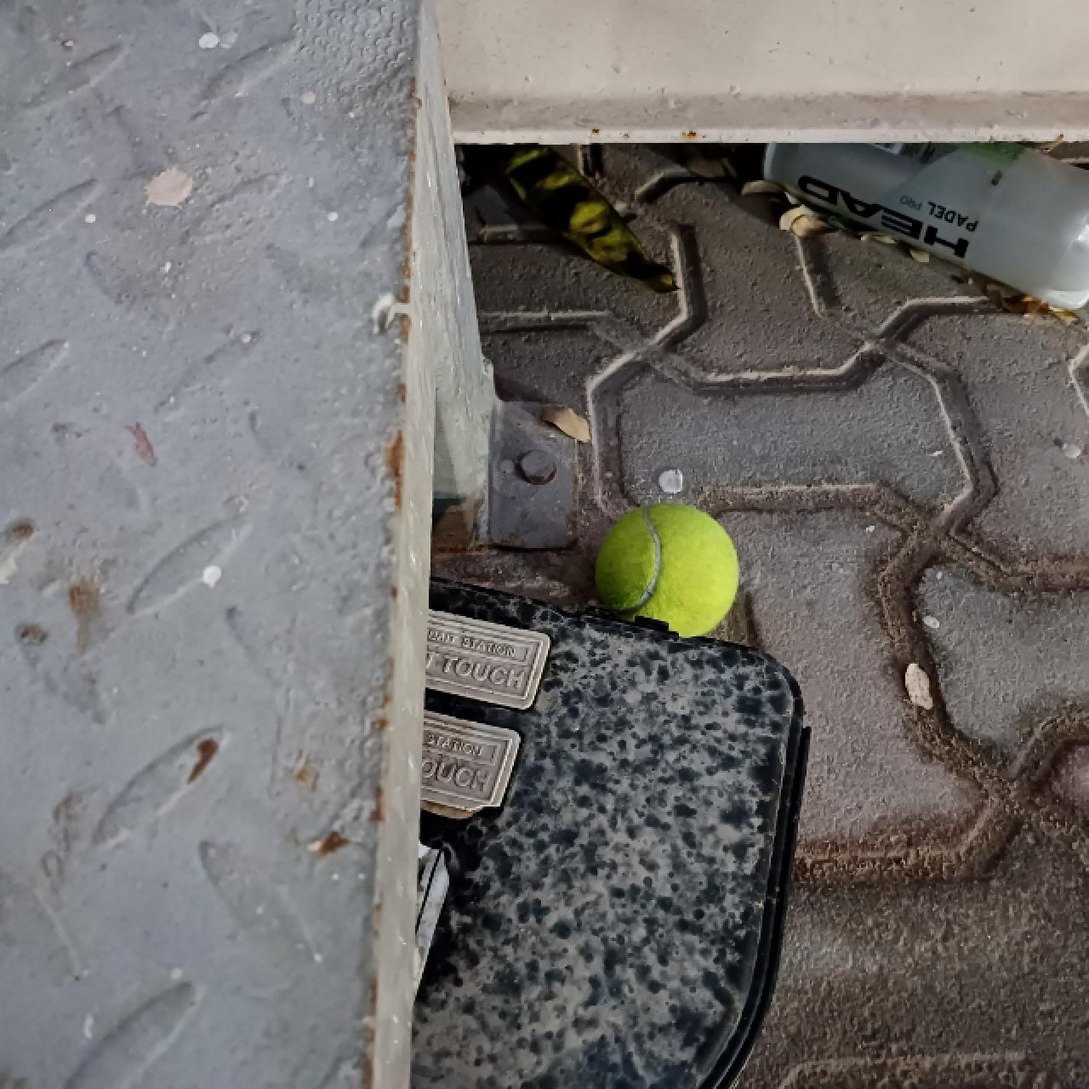tennis-ball: (592, 501, 739, 643)
